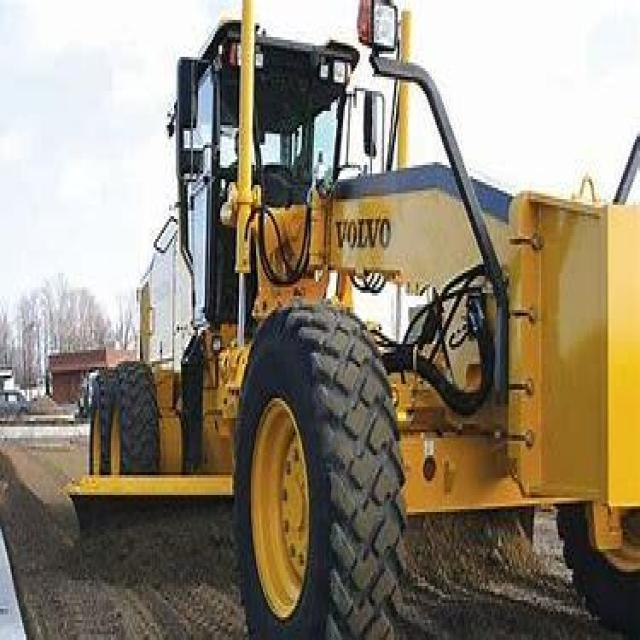buldozerpayloadergrader: (71, 20, 636, 637)
